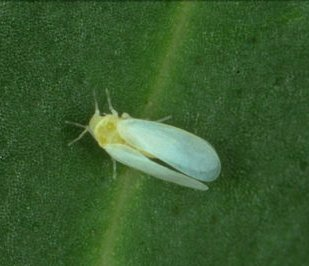Tobacco Whitefly: (68, 87, 230, 198)
